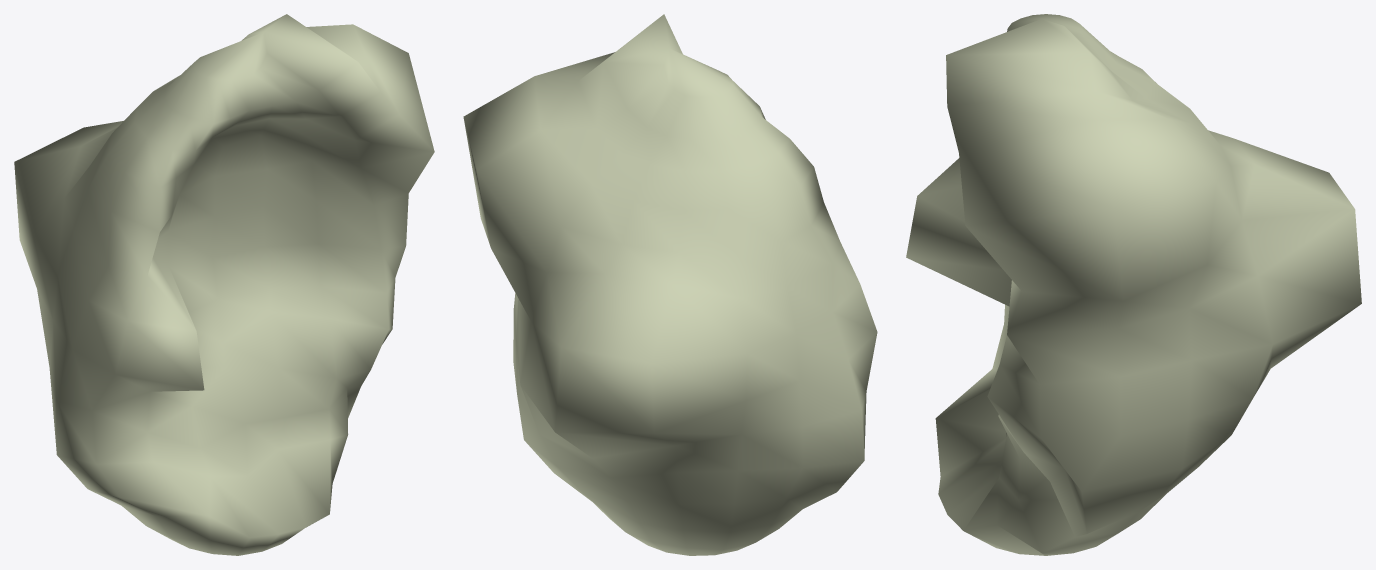
File: mAsteroid4_coll.obj
3 views of the same model, side by side, from view 1: azimuth 30°, elevation 25°; view 2: azimuth 150°, elevation 25°; view 3: azimuth 270°, elevation 25° (orthographic). The views are drawn at different scales.
Parts seen in each view (by area): view 1: sphere1; view 2: sphere1; view 3: sphere1.
Part boxes in pixels (x1,y1,x2,y2): sphere1: (14, 14, 434, 555); sphere1: (463, 14, 877, 555); sphere1: (906, 14, 1361, 555).
Bounding box in the file's own units: 5.16 × 6.45 × 4.96.
